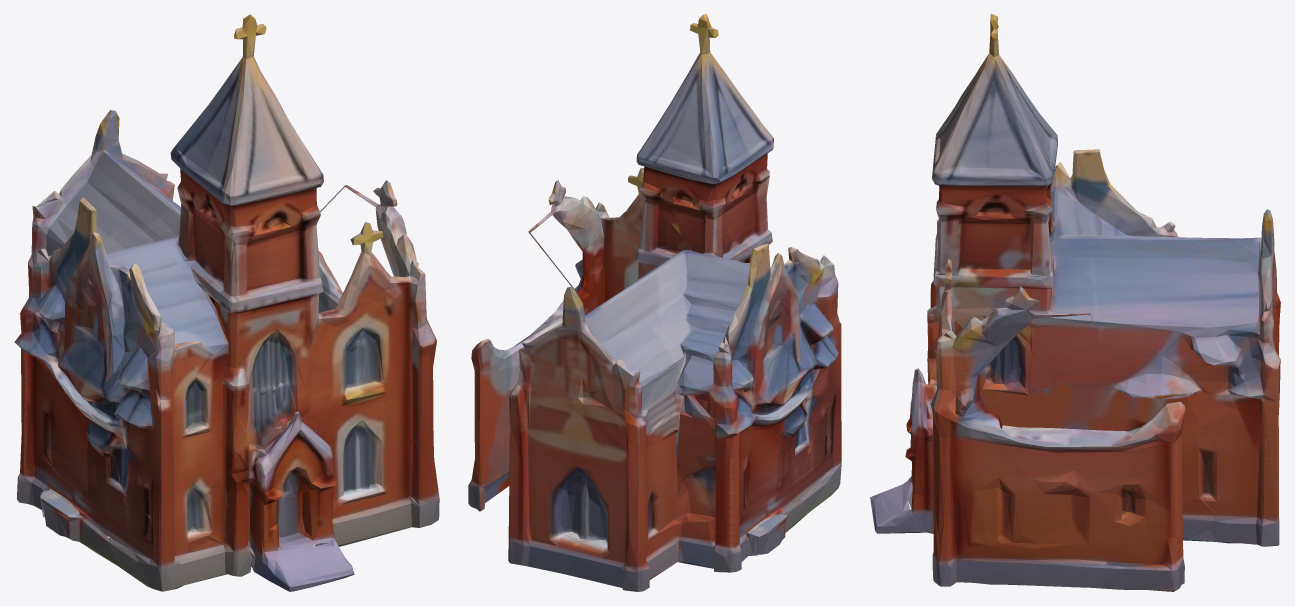
File: organ_works_bld.glb
3 renders of one model, left to right at view 1: azimuth 30°, elevation 25°; view 2: azimuth 150°, elevation 25°; view 3: azimuth 270°, elevation 25°, orthographic. The views are drawn at different scales.
Visible parts, largest first — view 1: textured_mesh.obj; view 2: textured_mesh.obj; view 3: textured_mesh.obj.
Part boxes in pixels (<box>): textured_mesh.obj: <box>14,14,439,591</box>; textured_mesh.obj: <box>468,14,841,591</box>; textured_mesh.obj: <box>870,14,1280,591</box>.
Size of the model in its own units: 4.95 by 8 by 5.95.
1 material, 1 textured.
